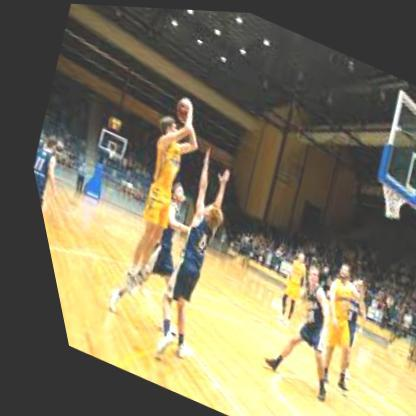basketball: (165, 92, 195, 125)
